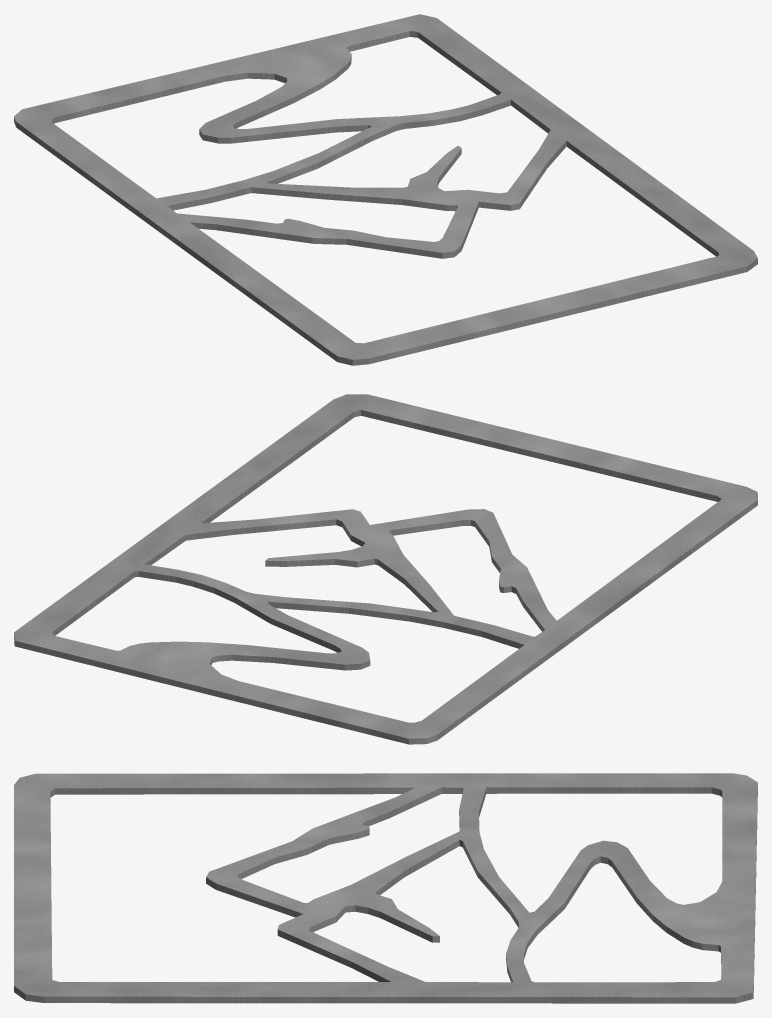
Rendered from mountain_steel_stencil.glb.
3 views of the same model, one above another, from view 1: azimuth 30°, elevation 25°; view 2: azimuth 150°, elevation 25°; view 3: azimuth 270°, elevation 25° (orthographic). The views are drawn at different scales.
Parts seen in each view (by area): view 1: world; view 2: world; view 3: world.
Boxes of the visible parts, x1,y1,x2,y2 form: world: (14, 14, 757, 365); world: (14, 394, 757, 744); world: (14, 773, 757, 1003).
Size of the model in its own units: 0.2403 by 0.0032 by 0.3375.
Materials: 1 (1 with a texture image).
